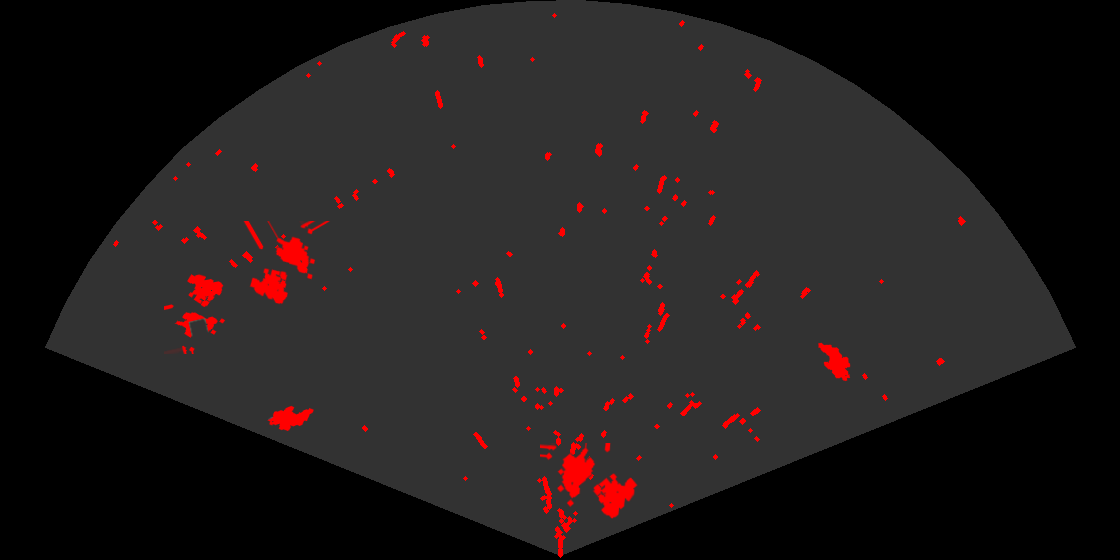AUV: (817, 341, 852, 383), (266, 404, 315, 433)
cage: (540, 443, 639, 520), (242, 221, 331, 306), (164, 273, 227, 354)
